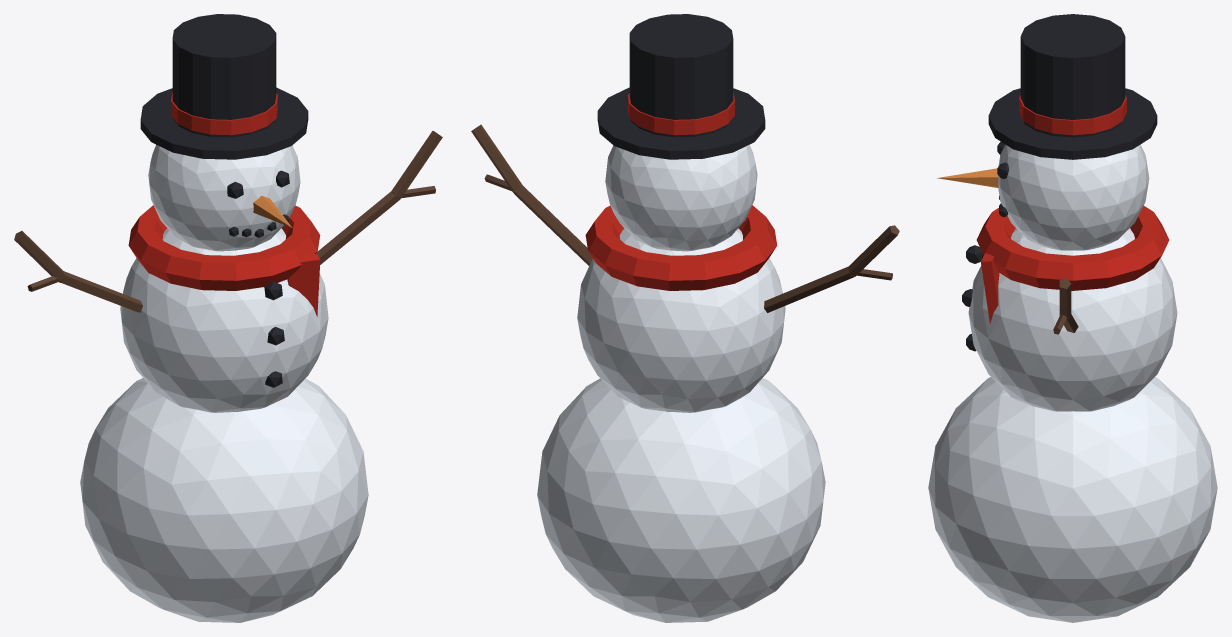
File: snowman.obj
3 views of the same model, side by side, from view 1: azimuth 30°, elevation 25°; view 2: azimuth 150°, elevation 25°; view 3: azimuth 270°, elevation 25° (orthographic).
Visible parts, largest first — view 1: snowman; view 2: snowman; view 3: snowman.
Boxes of the visible parts, box(x1,y1,x2,y2) form: snowman: box(14, 14, 442, 622); snowman: box(471, 14, 899, 622); snowman: box(928, 14, 1217, 622).
Size of the model in its own units: 6.12 by 7.86 by 3.6.
1 material, 1 textured.
